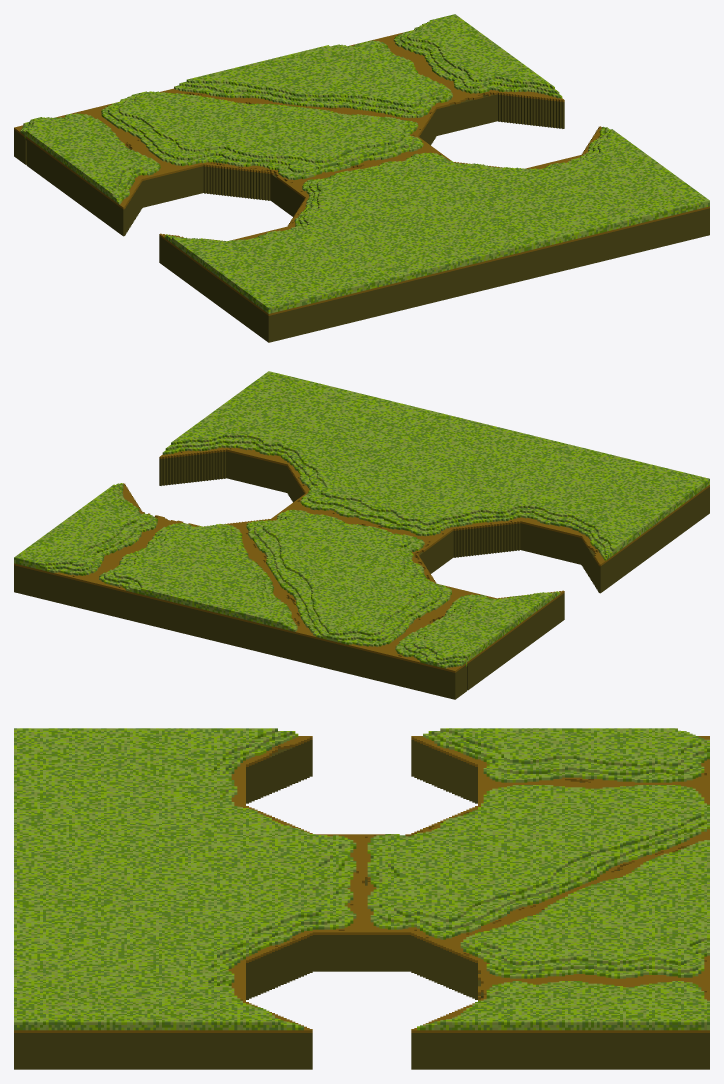
Rendered from Tab A2-0.obj.
The picture shows the model from 3 angles, top to bottom: view 1: azimuth 30°, elevation 25°; view 2: azimuth 150°, elevation 25°; view 3: azimuth 270°, elevation 25°; orthographic projection. The views are drawn at different scales.
Size of the model in its own units: 24 by 1.8 by 24.
1 material, 1 textured.
